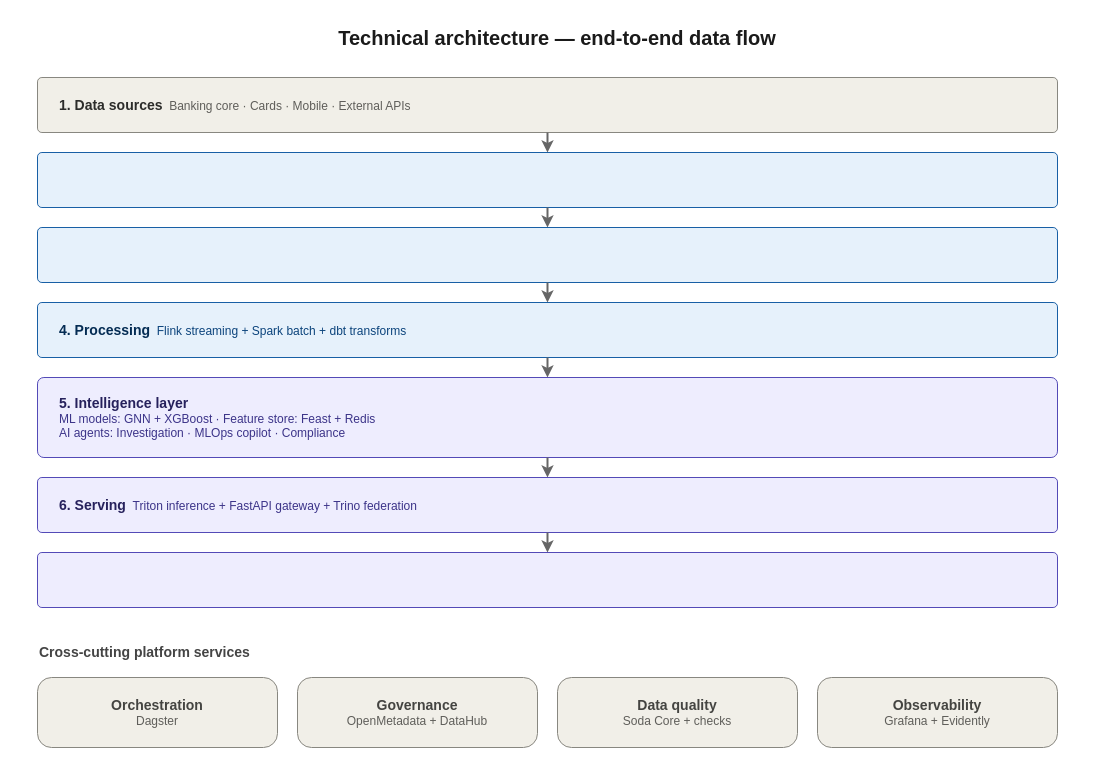
Some shapes in this 1114 by 765 pixel diagram are drawn without their labels. Here are the shapes that lost their labels. From the top down, the centre of each, then its label:
At (547,180): "2. Ingestion Debezium CDC + Kafka/Redpanda + dlt batch loaders".
At (547,254): "3. Lakehouse storage Iceberg tables + Lakekeeper catalog on S3/MinIO".
At (547,580): "7. Consumption Next.js dashboards + Superset BI + Reverse ETL".
